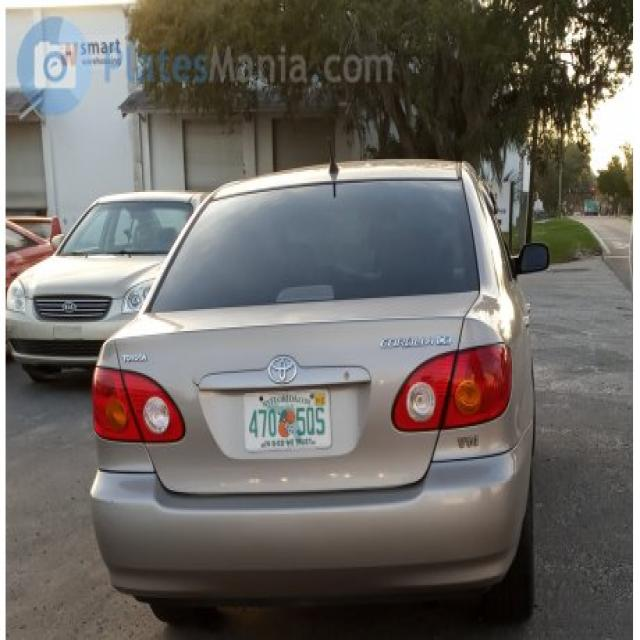license: (241, 387, 339, 462)
